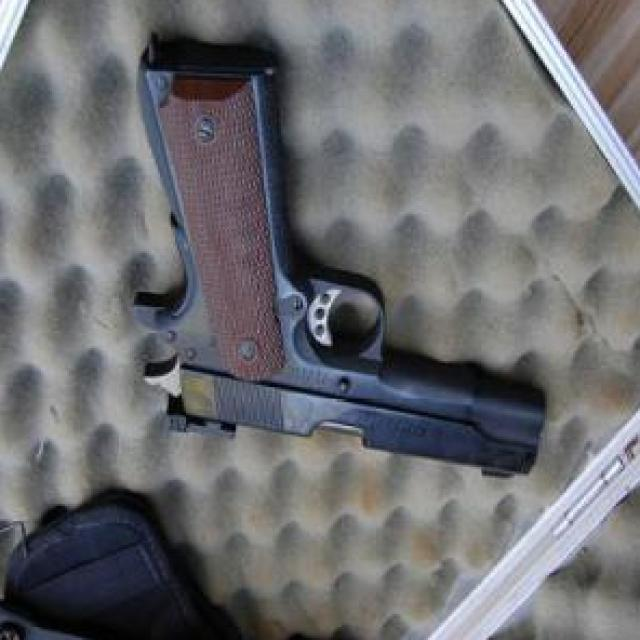pistol: (127, 36, 544, 487)
